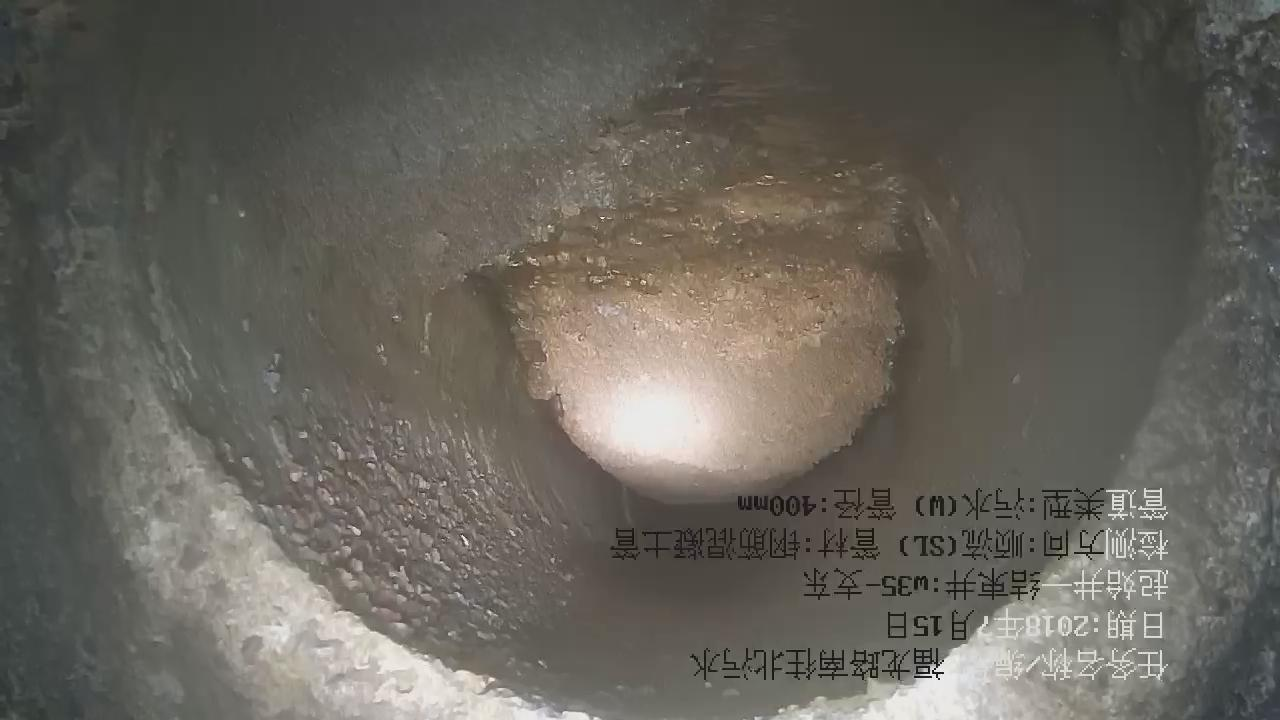CJ: (234, 1, 900, 503)
